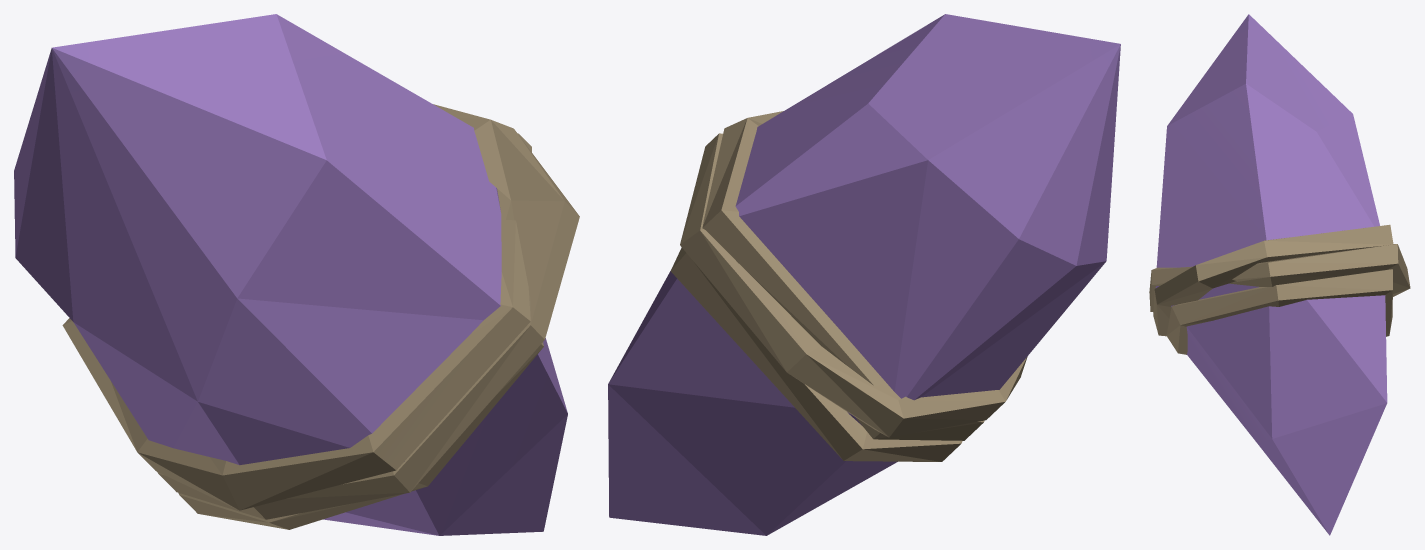
Rendered from trinketCrystal1.fbx.
3 renders of one model, left to right at view 1: azimuth 30°, elevation 25°; view 2: azimuth 150°, elevation 25°; view 3: azimuth 270°, elevation 25°, orthographic. The views are drawn at different scales.
Visible parts, largest first — view 1: trinketCrystal1; view 2: trinketCrystal1; view 3: trinketCrystal1.
Boxes of the visible parts, x1,y1,x2,y2 form: trinketCrystal1: [14, 14, 579, 535]; trinketCrystal1: [608, 14, 1120, 535]; trinketCrystal1: [1149, 14, 1410, 535].
Size of the model in its own units: 1.22 by 1.39 by 0.8864.
1 material, 1 textured.
